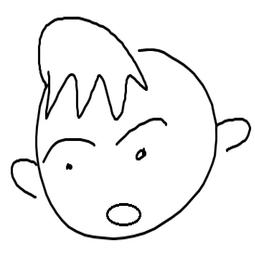ear: (208, 111, 253, 157), (4, 153, 43, 201)
eyebrow: (42, 133, 97, 162)
frowning_eyebrow: (107, 112, 175, 149)
open_mouth: (97, 196, 147, 232)
small_eye: (133, 146, 148, 163), (60, 160, 74, 174)
